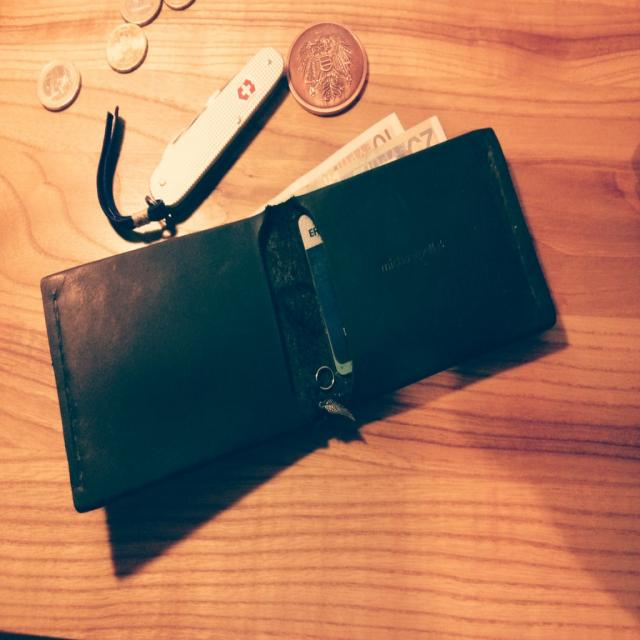Coin: (281, 22, 371, 114), (35, 55, 82, 113), (106, 23, 146, 73), (118, 0, 161, 28), (162, 0, 199, 11)
